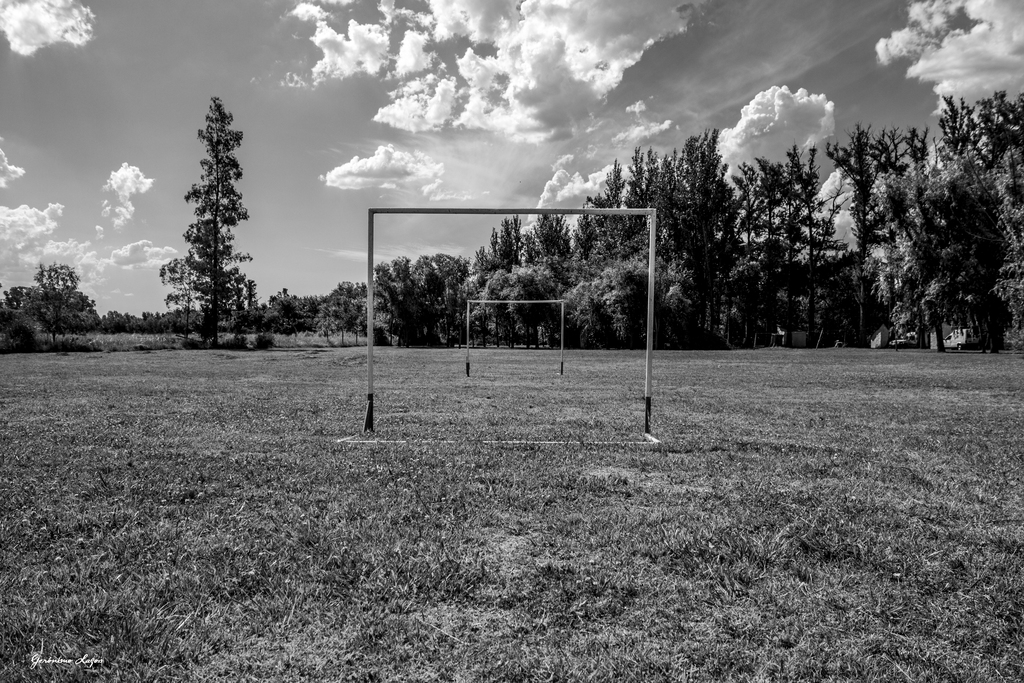Tree: (314, 120, 1023, 348), (165, 94, 256, 348), (94, 289, 318, 335), (19, 256, 97, 342)
